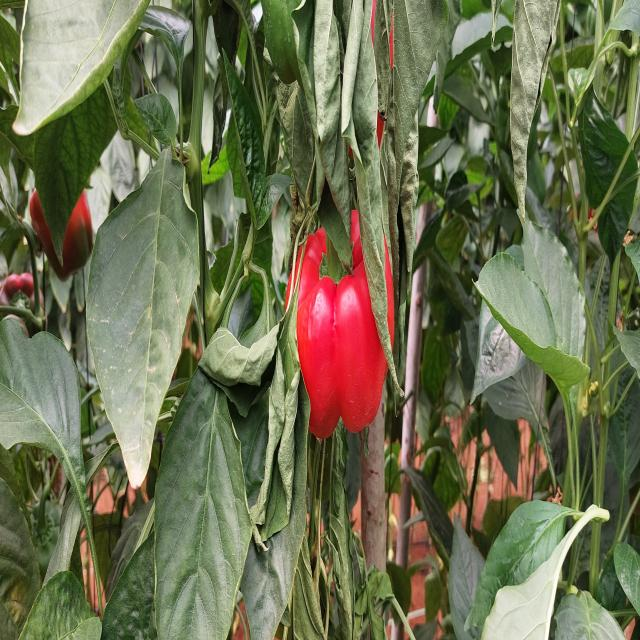Red-Ready-to-Harvest: (282, 223, 396, 459)
